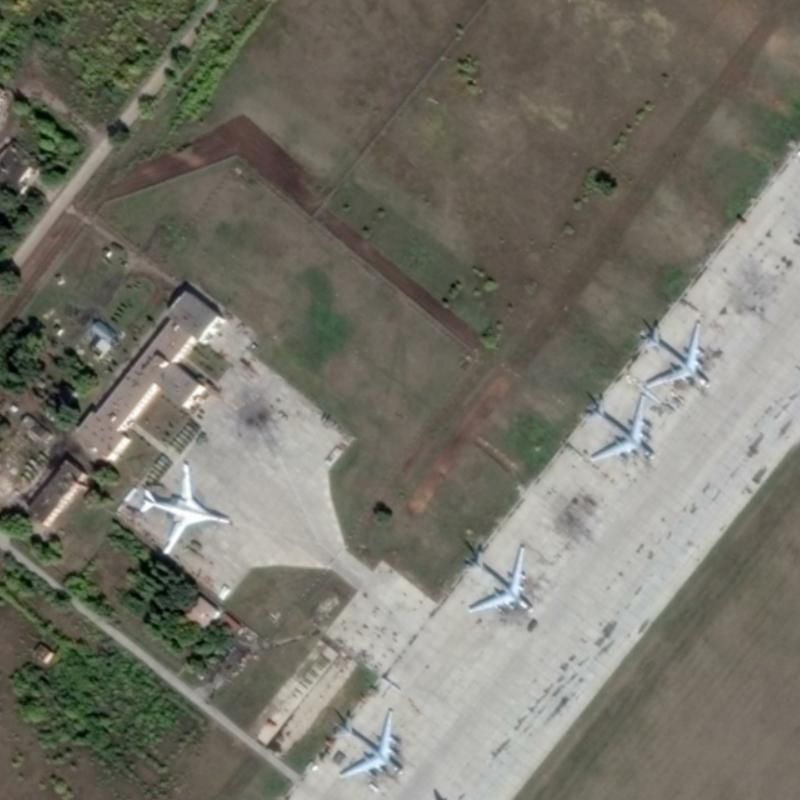A17: (325, 703, 408, 781), (459, 537, 537, 619), (575, 389, 660, 463), (633, 315, 714, 392)
A6: (136, 455, 238, 559)
